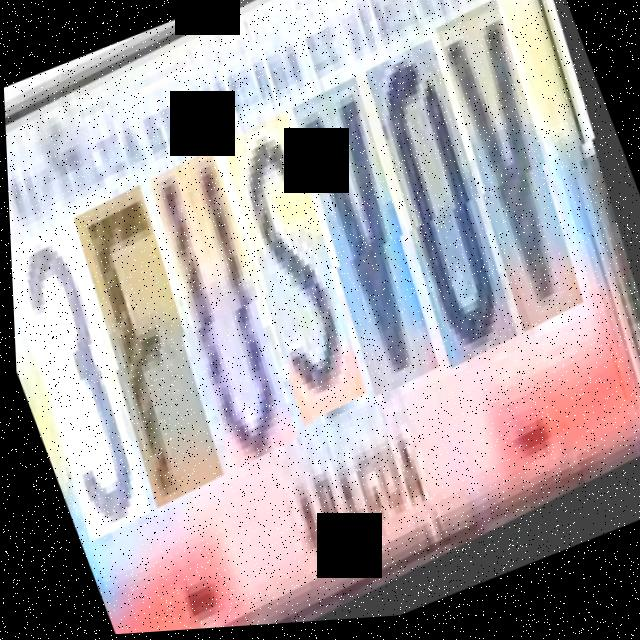0: (351, 48, 545, 383)
3: (8, 218, 174, 543)
F: (57, 184, 248, 513)
S: (208, 116, 393, 437)
U: (135, 150, 321, 477)
V: (422, 9, 612, 349), (278, 83, 465, 411)
